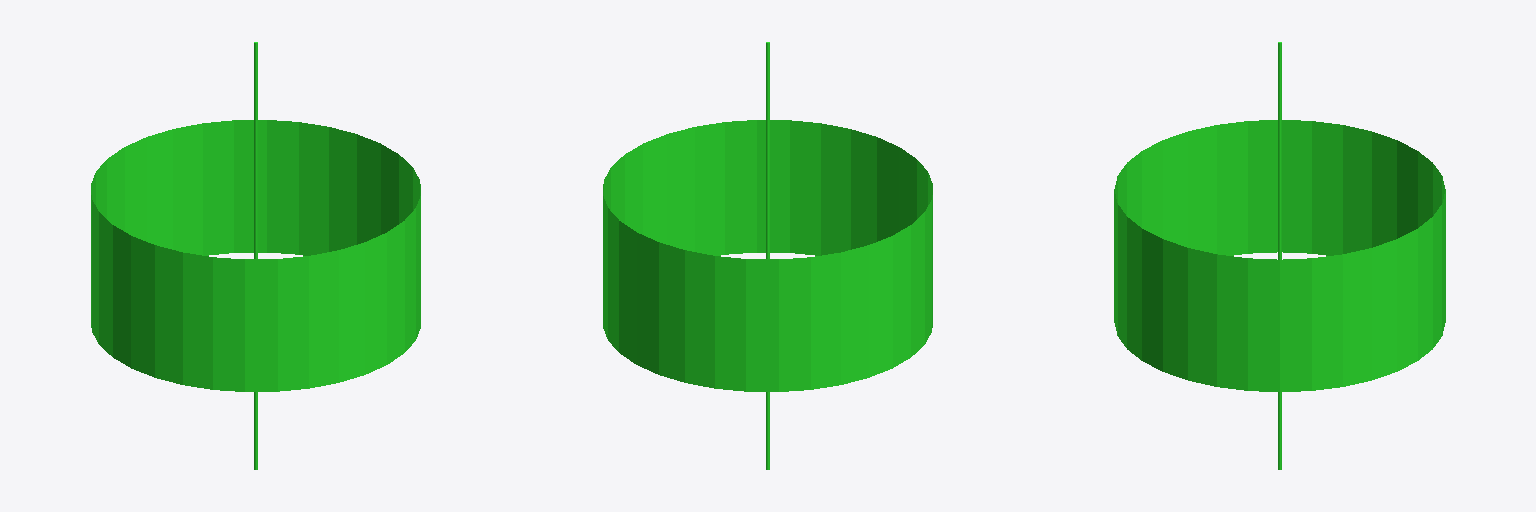
3 views of the same model, side by side, from view 1: azimuth 30°, elevation 25°; view 2: azimuth 150°, elevation 25°; view 3: azimuth 270°, elevation 25° (orthographic).
Parts seen in each view (by area): view 1: RS2; view 2: RS2; view 3: RS2.
Part boxes in pixels (x1,y1,x2,y2): RS2: (91, 42, 420, 469); RS2: (603, 42, 932, 469); RS2: (1114, 42, 1445, 469).
Bounding box in the file's own units: 2.55 × 3.63 × 2.55.